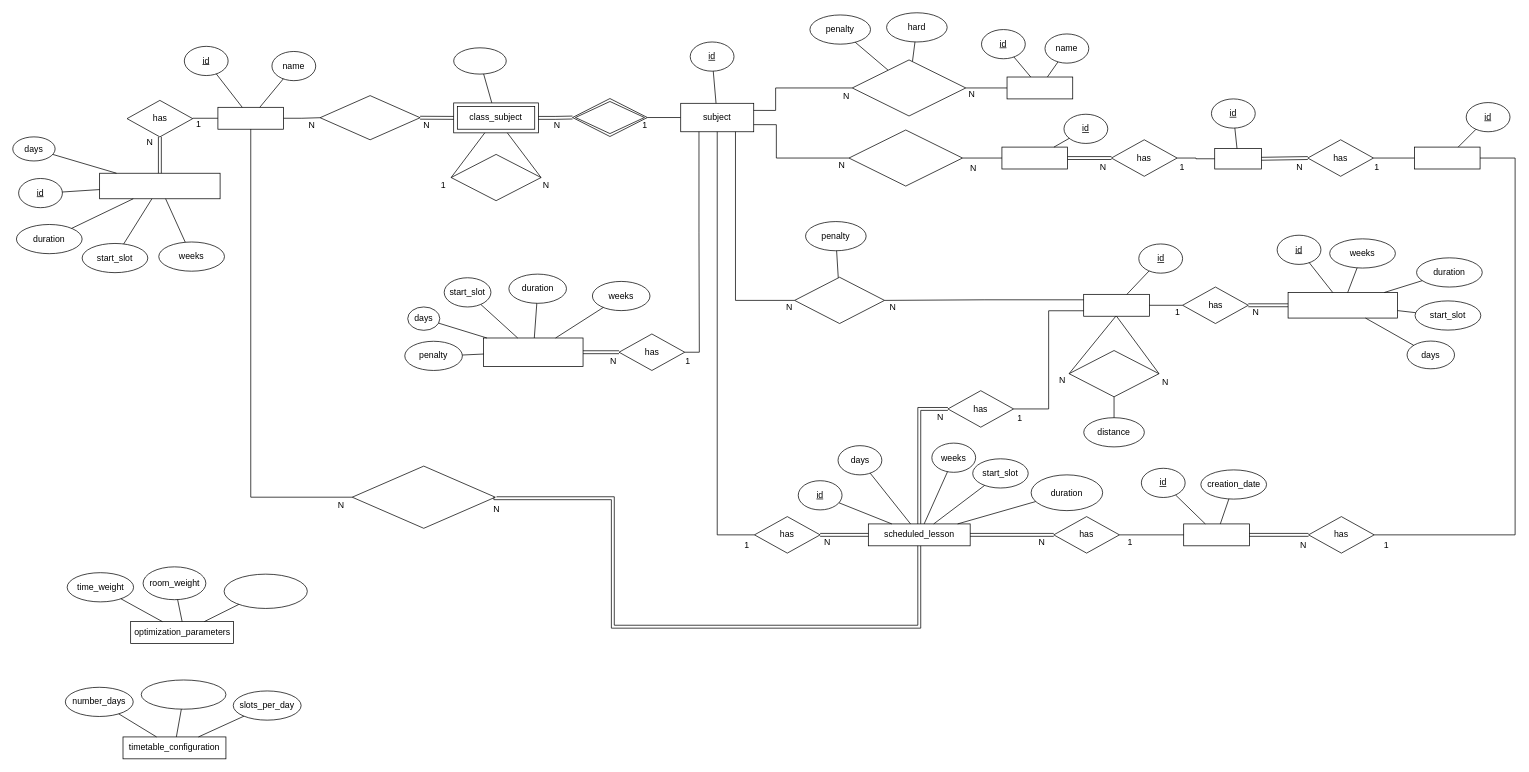
Some shapes in this 1529 by 772 pixel diagram are drawn without their labels. Each missing label, with the box of its shape:
class_id: (453, 47, 506, 74)
config: (1214, 148, 1261, 169)
contains: (572, 98, 647, 137)
course: (1414, 146, 1480, 169)
distribution_weight: (223, 573, 307, 608)
number_weeks: (141, 679, 226, 709)
parent_class: (450, 154, 541, 201)
restriction: (1006, 76, 1073, 99)
restriction_subject: (852, 59, 966, 116)
room: (1083, 294, 1149, 316)
room_distance: (1068, 350, 1159, 397)
room_unavailability: (1287, 292, 1398, 318)
scheduled_lesson_teacher: (351, 465, 495, 528)
subject_room: (794, 277, 885, 324)
subject_subpart: (848, 129, 963, 186)
subject_times: (483, 337, 583, 366)
subpart: (1001, 146, 1068, 169)
teacher: (217, 107, 284, 129)
teacher_class: (319, 95, 420, 140)
teacher_unavailability: (99, 172, 220, 199)
timetable: (1183, 523, 1249, 546)
